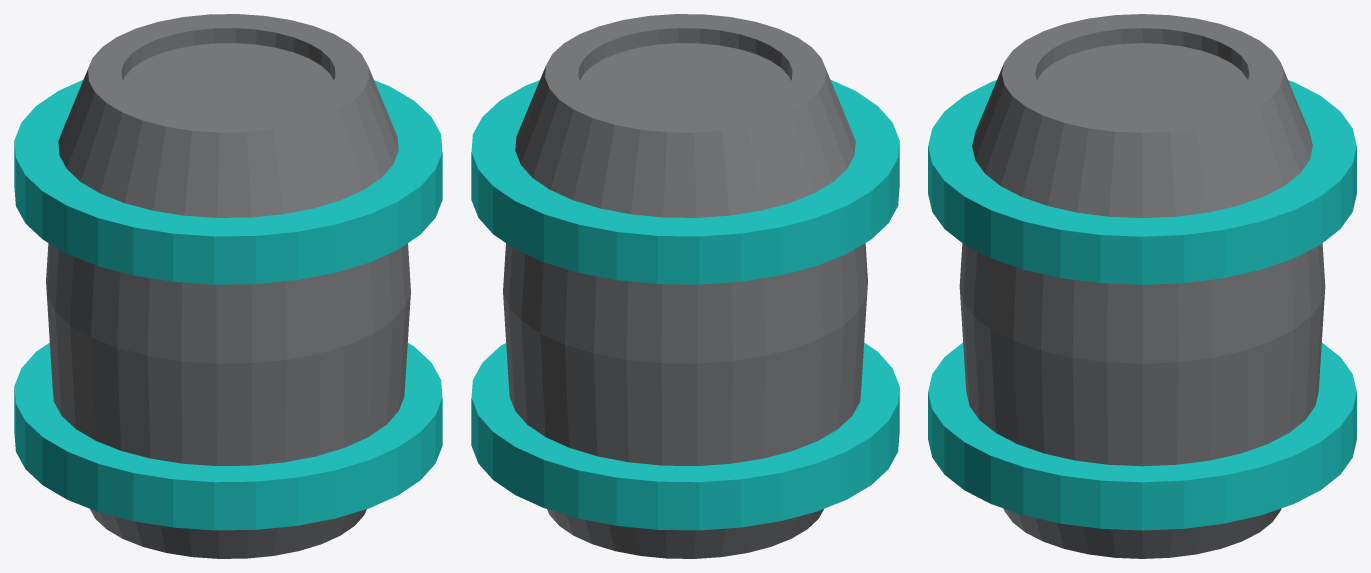
Rendered from Barrel1.fbx.
3 views of the same model, side by side, from view 1: azimuth 30°, elevation 25°; view 2: azimuth 150°, elevation 25°; view 3: azimuth 270°, elevation 25° (orthographic).
Visible parts, largest first — view 1: Cylinder; view 2: Cylinder; view 3: Cylinder.
Part boxes in pixels (left/top/right/bottom): Cylinder: left=14, top=14, right=442, bottom=558; Cylinder: left=471, top=14, right=899, bottom=558; Cylinder: left=928, top=14, right=1356, bottom=558.
Bounding box in the file's own units: 165 × 181 × 165.
